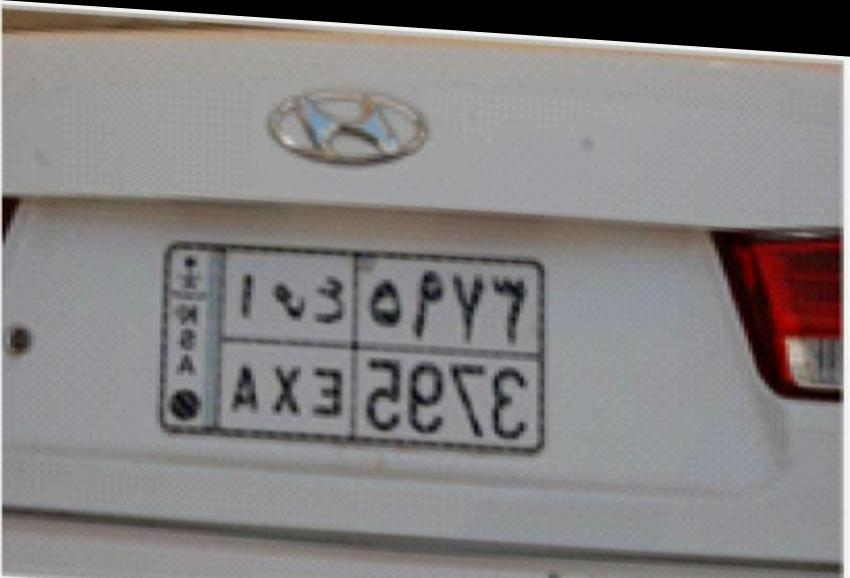License_Plate: (151, 230, 553, 468)
